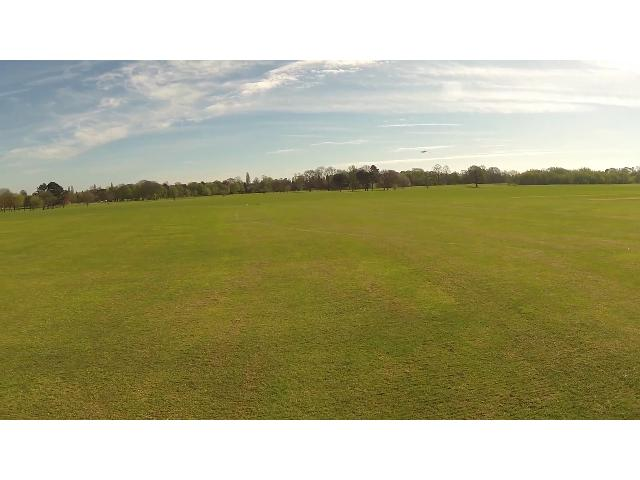Anti-Drone: (419, 148, 431, 155)
